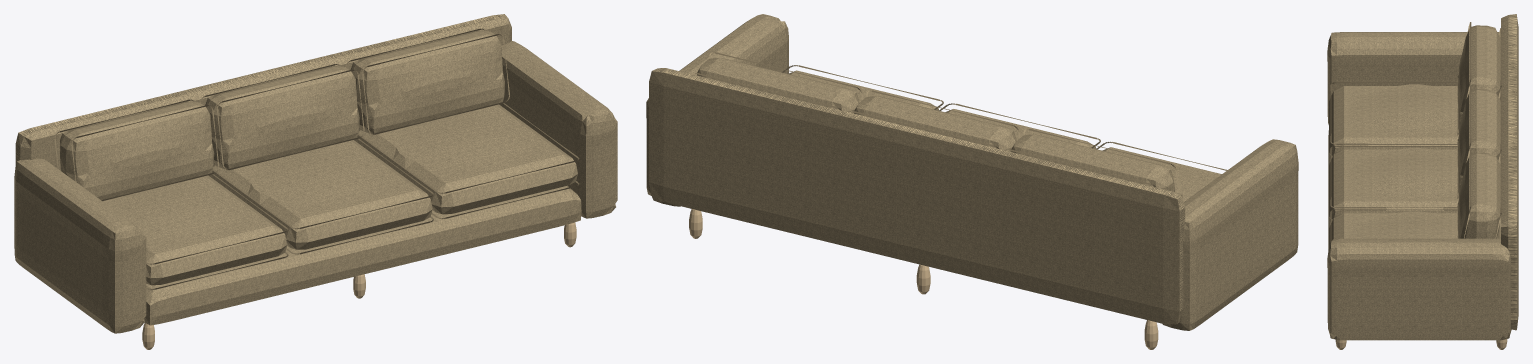
The model's file is SAB-SOF-4-seat.glb.
3 views of the same model, side by side, from view 1: azimuth 30°, elevation 25°; view 2: azimuth 150°, elevation 25°; view 3: azimuth 270°, elevation 25° (orthographic). The views are drawn at different scales.
Visible parts, largest first — view 1: deck:fabric:eyJwcmVzZXQiOiJib3VjbGUiLCJ3YXJwIjoic2FuZCIsIndl, arm-pad-l:fabric:eyJwcmVzZXQiOiJib3VjbGUiLCJ3YXJwIjoic2FuZCI, seat-3:fabric:eyJwcmVzZXQiOiJib3VjbGUiLCJ3YXJwIjoic2FuZCIsIn, seat-2:fabric:eyJwcmVzZXQiOiJib3VjbGUiLCJ3YXJwIjoic2FuZCIsIn, seat-1:fabric:eyJwcmVzZXQiOiJib3VjbGUiLCJ3YXJwIjoic2FuZCIsIn, back-2:fabric:eyJwcmVzZXQiOiJib3VjbGUiLCJ3YXJwIjoic2FuZCIsIn, back-3:fabric:eyJwcmVzZXQiOiJib3VjbGUiLCJ3YXJwIjoic2FuZCIsIn, back-1:fabric:eyJwcmVzZXQiOiJib3VjbGUiLCJ3YXJwIjoic2FuZCIsIn, arm-pad-r:fabric:eyJwcmVzZXQiOiJib3VjbGUiLCJ3YXJwIjoic2FuZCI, back-pad:fabric:eyJwcmVzZXQiOiJib3VjbGUiLCJ3YXJwIjoic2FuZCIs, back-3:piping:pbr, back-2:piping:pbr (+4 smaller); view 2: back-pad:fabric:eyJwcmVzZXQiOiJib3VjbGUiLCJ3YXJwIjoic2FuZCIs, arm-pad-l:fabric:eyJwcmVzZXQiOiJib3VjbGUiLCJ3YXJwIjoic2FuZCI, arm-pad-r:fabric:eyJwcmVzZXQiOiJib3VjbGUiLCJ3YXJwIjoic2FuZCI, back-1:fabric:eyJwcmVzZXQiOiJib3VjbGUiLCJ3YXJwIjoic2FuZCIsIn, back-3:fabric:eyJwcmVzZXQiOiJib3VjbGUiLCJ3YXJwIjoic2FuZCIsIn, back-2:fabric:eyJwcmVzZXQiOiJib3VjbGUiLCJ3YXJwIjoic2FuZCIsIn, seat-1:fabric:eyJwcmVzZXQiOiJib3VjbGUiLCJ3YXJwIjoic2FuZCIsIn, seat-2:fabric:eyJwcmVzZXQiOiJib3VjbGUiLCJ3YXJwIjoic2FuZCIsIn, seat-3:fabric:eyJwcmVzZXQiOiJib3VjbGUiLCJ3YXJwIjoic2FuZCIsIn, back-1:piping:pbr, back-2:piping:pbr, back-3:piping:pbr; view 3: arm-pad-r:fabric:eyJwcmVzZXQiOiJib3VjbGUiLCJ3YXJwIjoic2FuZCI, seat-2:fabric:eyJwcmVzZXQiOiJib3VjbGUiLCJ3YXJwIjoic2FuZCIsIn, seat-1:fabric:eyJwcmVzZXQiOiJib3VjbGUiLCJ3YXJwIjoic2FuZCIsIn, arm-pad-l:fabric:eyJwcmVzZXQiOiJib3VjbGUiLCJ3YXJwIjoic2FuZCI, back-pad:fabric:eyJwcmVzZXQiOiJib3VjbGUiLCJ3YXJwIjoic2FuZCIs, seat-3:fabric:eyJwcmVzZXQiOiJib3VjbGUiLCJ3YXJwIjoic2FuZCIsIn, back-3:fabric:eyJwcmVzZXQiOiJib3VjbGUiLCJ3YXJwIjoic2FuZCIsIn, back-1:fabric:eyJwcmVzZXQiOiJib3VjbGUiLCJ3YXJwIjoic2FuZCIsIn, back-2:fabric:eyJwcmVzZXQiOiJib3VjbGUiLCJ3YXJwIjoic2FuZCIsIn, seat-2:piping:pbr, seat-1:piping:pbr, back-2:piping:pbr (+4 smaller).
Part boxes in pixels (left/top/right/bottom): deck:fabric:eyJwcmVzZXQiOiJib3VjbGUiLCJ3YXJwIjoic2FuZCIsIndl: left=144, top=185, right=581, bottom=325; arm-pad-l:fabric:eyJwcmVzZXQiOiJib3VjbGUiLCJ3YXJwIjoic2FuZCI: left=14, top=158, right=146, bottom=333; seat-3:fabric:eyJwcmVzZXQiOiJib3VjbGUiLCJ3YXJwIjoic2FuZCIsIn: left=354, top=104, right=577, bottom=214; seat-2:fabric:eyJwcmVzZXQiOiJib3VjbGUiLCJ3YXJwIjoic2FuZCIsIn: left=208, top=140, right=432, bottom=249; seat-1:fabric:eyJwcmVzZXQiOiJib3VjbGUiLCJ3YXJwIjoic2FuZCIsIn: left=103, top=175, right=287, bottom=285; back-2:fabric:eyJwcmVzZXQiOiJib3VjbGUiLCJ3YXJwIjoic2FuZCIsIn: left=205, top=65, right=359, bottom=169; back-3:fabric:eyJwcmVzZXQiOiJib3VjbGUiLCJ3YXJwIjoic2FuZCIsIn: left=350, top=30, right=504, bottom=133; back-1:fabric:eyJwcmVzZXQiOiJib3VjbGUiLCJ3YXJwIjoic2FuZCIsIn: left=60, top=101, right=214, bottom=201; arm-pad-r:fabric:eyJwcmVzZXQiOiJib3VjbGUiLCJ3YXJwIjoic2FuZCI: left=499, top=40, right=617, bottom=218; back-pad:fabric:eyJwcmVzZXQiOiJib3VjbGUiLCJ3YXJwIjoic2FuZCIs: left=15, top=14, right=511, bottom=170; back-3:piping:pbr: left=345, top=28, right=509, bottom=134; back-2:piping:pbr: left=200, top=64, right=364, bottom=170; back-pad:fabric:eyJwcmVzZXQiOiJib3VjbGUiLCJ3YXJwIjoic2FuZCIs: left=649, top=68, right=1185, bottom=324; arm-pad-l:fabric:eyJwcmVzZXQiOiJib3VjbGUiLCJ3YXJwIjoic2FuZCI: left=1162, top=139, right=1298, bottom=330; arm-pad-r:fabric:eyJwcmVzZXQiOiJib3VjbGUiLCJ3YXJwIjoic2FuZCI: left=646, top=14, right=788, bottom=206; back-1:fabric:eyJwcmVzZXQiOiJib3VjbGUiLCJ3YXJwIjoic2FuZCIsIn: left=1011, top=134, right=1174, bottom=191; back-3:fabric:eyJwcmVzZXQiOiJib3VjbGUiLCJ3YXJwIjoic2FuZCIsIn: left=697, top=57, right=859, bottom=113; back-2:fabric:eyJwcmVzZXQiOiJib3VjbGUiLCJ3YXJwIjoic2FuZCIsIn: left=854, top=96, right=1016, bottom=151; seat-1:fabric:eyJwcmVzZXQiOiJib3VjbGUiLCJ3YXJwIjoic2FuZCIsIn: left=1102, top=147, right=1221, bottom=201; seat-2:fabric:eyJwcmVzZXQiOiJib3VjbGUiLCJ3YXJwIjoic2FuZCIsIn: left=945, top=109, right=1096, bottom=148; seat-3:fabric:eyJwcmVzZXQiOiJib3VjbGUiLCJ3YXJwIjoic2FuZCIsIn: left=788, top=70, right=938, bottom=110; back-1:piping:pbr: left=1006, top=128, right=1179, bottom=192; back-2:piping:pbr: left=849, top=90, right=1020, bottom=148; back-3:piping:pbr: left=692, top=52, right=863, bottom=110; arm-pad-r:fabric:eyJwcmVzZXQiOiJib3VjbGUiLCJ3YXJwIjoic2FuZCI: left=1327, top=238, right=1511, bottom=340; seat-2:fabric:eyJwcmVzZXQiOiJib3VjbGUiLCJ3YXJwIjoic2FuZCIsIn: left=1329, top=148, right=1458, bottom=220; seat-1:fabric:eyJwcmVzZXQiOiJib3VjbGUiLCJ3YXJwIjoic2FuZCIsIn: left=1329, top=84, right=1458, bottom=157; arm-pad-l:fabric:eyJwcmVzZXQiOiJib3VjbGUiLCJ3YXJwIjoic2FuZCI: left=1327, top=32, right=1500, bottom=124; back-pad:fabric:eyJwcmVzZXQiOiJib3VjbGUiLCJ3YXJwIjoic2FuZCIs: left=1501, top=14, right=1518, bottom=330; seat-3:fabric:eyJwcmVzZXQiOiJib3VjbGUiLCJ3YXJwIjoic2FuZCIsIn: left=1329, top=211, right=1500, bottom=247; back-3:fabric:eyJwcmVzZXQiOiJib3VjbGUiLCJ3YXJwIjoic2FuZCIsIn: left=1457, top=152, right=1500, bottom=238; back-1:fabric:eyJwcmVzZXQiOiJib3VjbGUiLCJ3YXJwIjoic2FuZCIsIn: left=1457, top=25, right=1500, bottom=129; back-2:fabric:eyJwcmVzZXQiOiJib3VjbGUiLCJ3YXJwIjoic2FuZCIsIn: left=1457, top=89, right=1500, bottom=193; seat-2:piping:pbr: left=1330, top=145, right=1457, bottom=224; seat-1:piping:pbr: left=1330, top=82, right=1457, bottom=161; back-2:piping:pbr: left=1457, top=85, right=1501, bottom=200.
Size of the model in its own units: 2.6 by 0.78 by 0.95.
22 materials, 10 textured.
